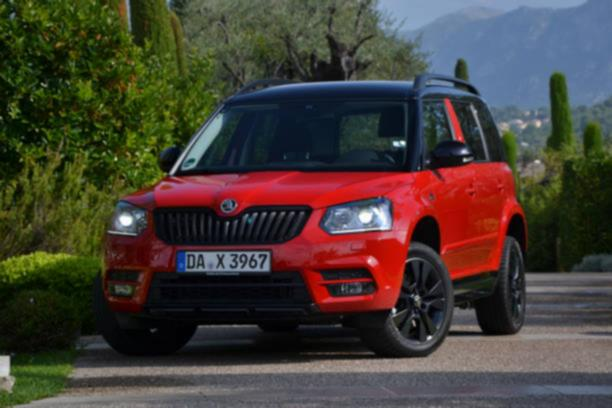skoda: (218, 193, 241, 214)
